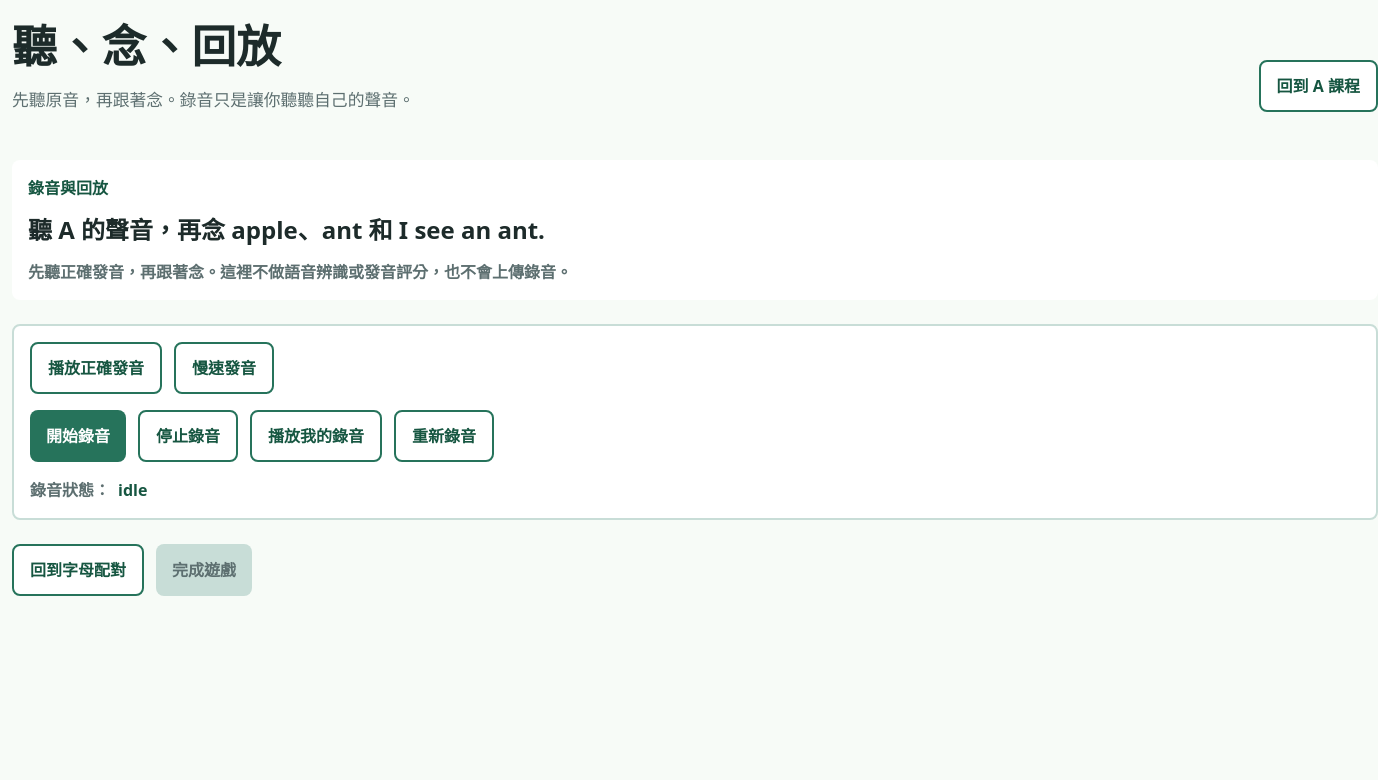
Test case: GamePage › 錄音頁可播放 A 的正式 /æ/ 原音
The image size is (1378, 780).
Click the button "播放正確發音" at (96, 368), box [30,342,162,394]
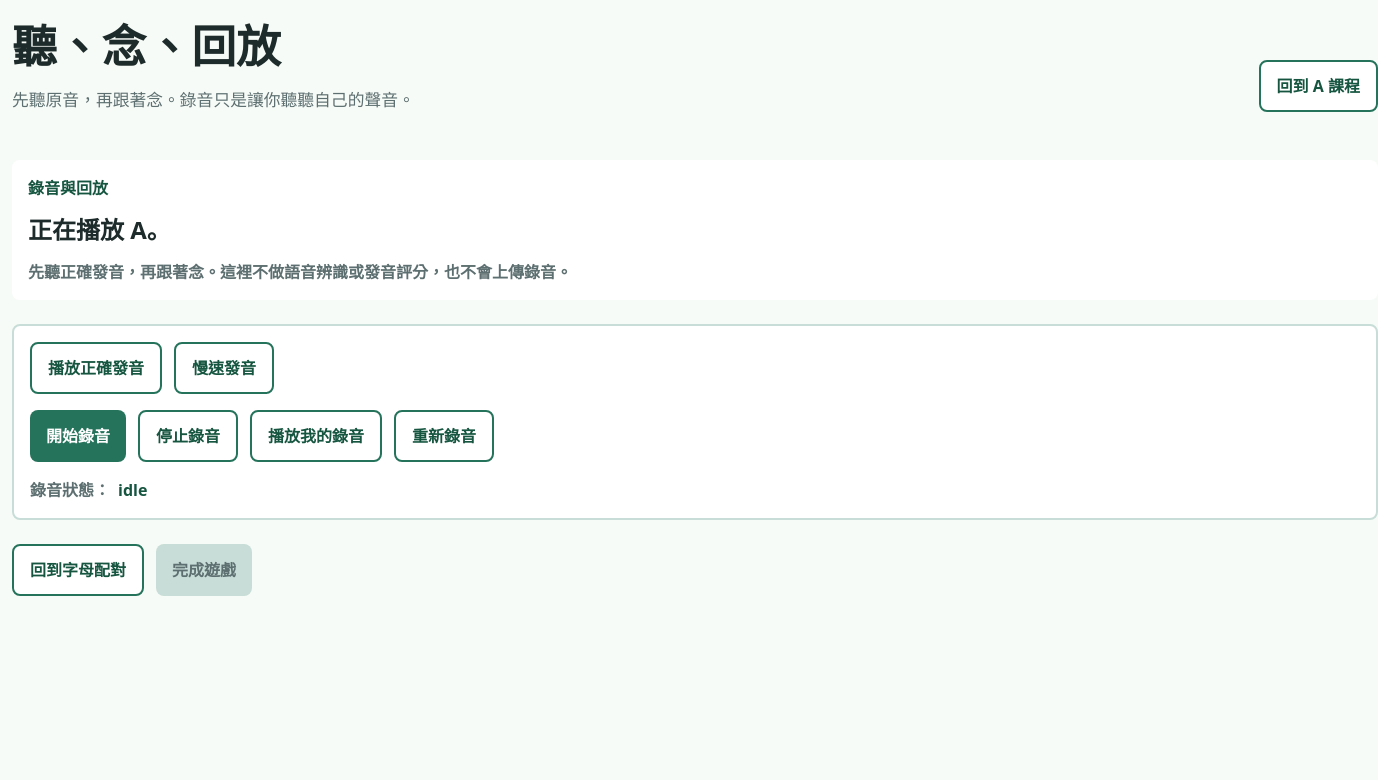
Check: the heading "正在播放 A。" is shown, box [28,213,171,246]
